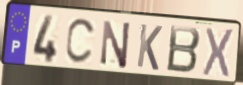4: (31, 13, 60, 65)
B: (165, 24, 202, 76)
C: (64, 17, 98, 67)
K: (135, 22, 164, 73)
N: (99, 19, 132, 71)
X: (201, 26, 236, 80)
